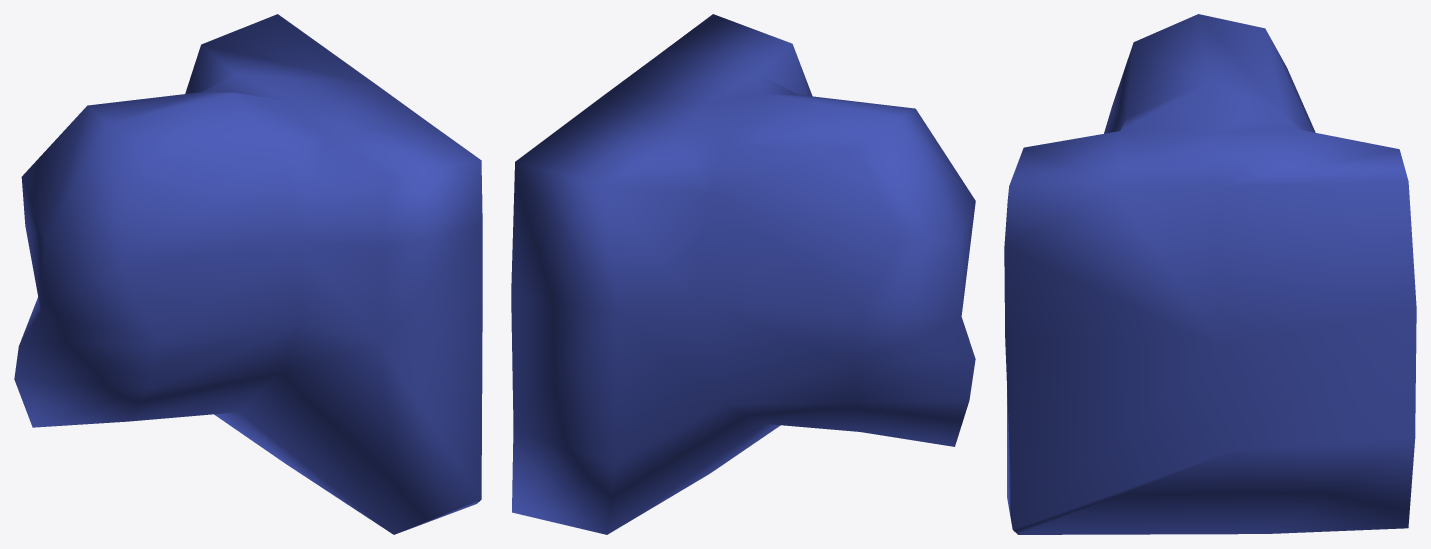
Rendered from Statue_05_Lod2.fbx.
3 views of the same model, side by side, from view 1: azimuth 30°, elevation 25°; view 2: azimuth 150°, elevation 25°; view 3: azimuth 270°, elevation 25° (orthographic). The views are drawn at different scales.
Parts seen in each view (by area): view 1: Statue_05_Lod2; view 2: Statue_05_Lod2; view 3: Statue_05_Lod2.
Part boxes in pixels (bbox=[...]): Statue_05_Lod2: bbox=[14, 14, 482, 534]; Statue_05_Lod2: bbox=[511, 14, 975, 534]; Statue_05_Lod2: bbox=[1004, 14, 1416, 534].
Size of the model in its own units: 60.53 by 61.53 by 58.85.
